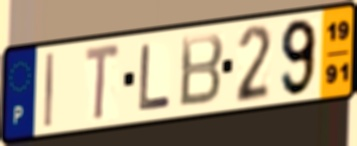2: (235, 24, 274, 106)
9: (278, 17, 320, 99)
B: (177, 30, 226, 110)
I: (43, 51, 56, 130)
L: (138, 41, 174, 114)
T: (83, 41, 123, 125)
